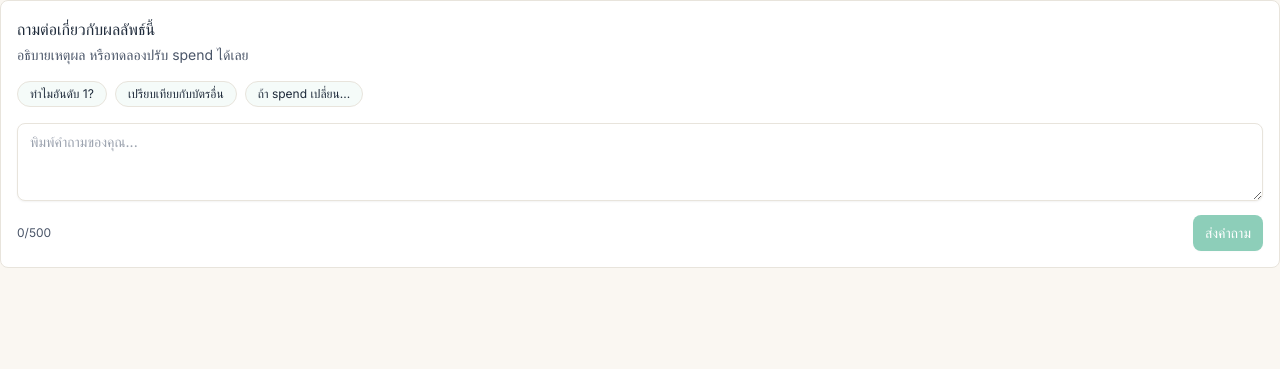
Scenario: ChatPanel › shows the expired banner on 410 responses
In the text box with placeholder "พิมพ์คำถามของคุณ...": (640,162) [17,123,1263,201], type "ยังถามได้มั้ย"
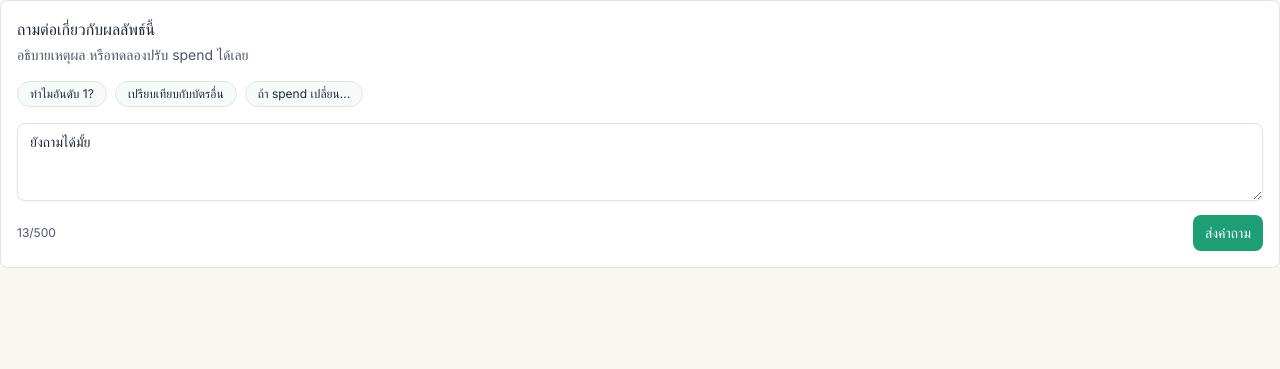
Click the button "ส่งคำถาม": (1228,233) [1193,215,1263,251]
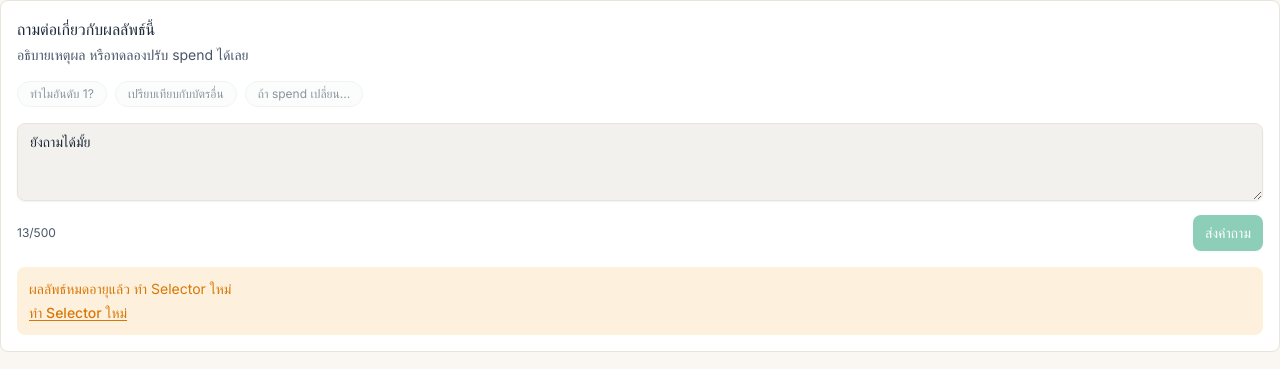
Expected: the text box with placeholder "พิมพ์คำถามของคุณ..." is disabled, [17,123,1263,201]
Expected: the text "ผลลัพธ์หมดอายุแล้ว ทำ Selector ใหม่" is shown, [29,280,232,297]
